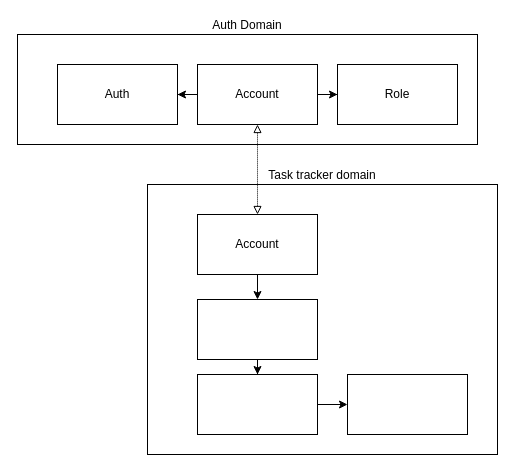
Some shapes in this 515 by 472 pixel diagram are drawn without their labels. The shapes that lost their labels are listed below. From the top down, each one's centre as x and y in pixels, then its label:
At pixel 257 329: "Task".
At pixel 257 404: "Status".
At pixel 407 404: "Audit".
